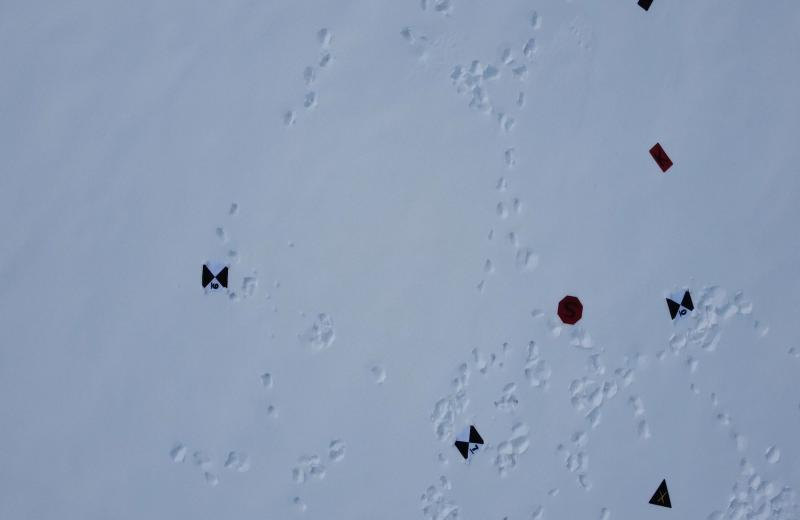Octagon: (555, 294, 584, 330)
Rectangle: (648, 142, 674, 174)
Square: (637, 0, 655, 13)
Triangle: (647, 476, 672, 510)
